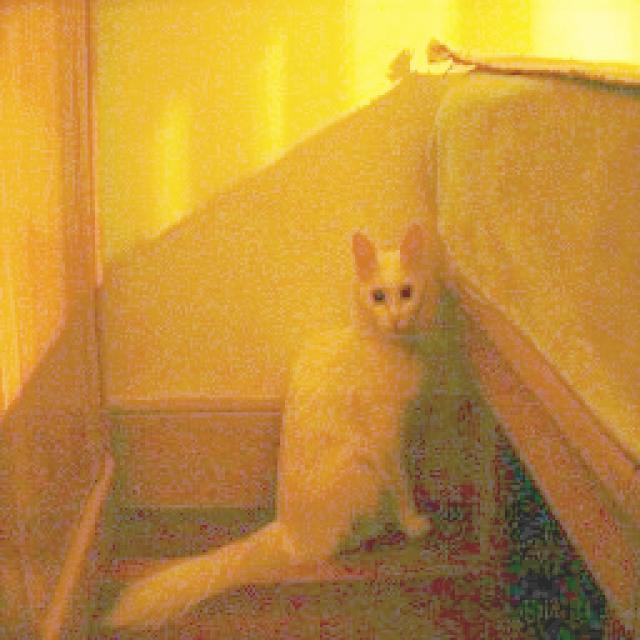cat: (94, 194, 457, 603)
